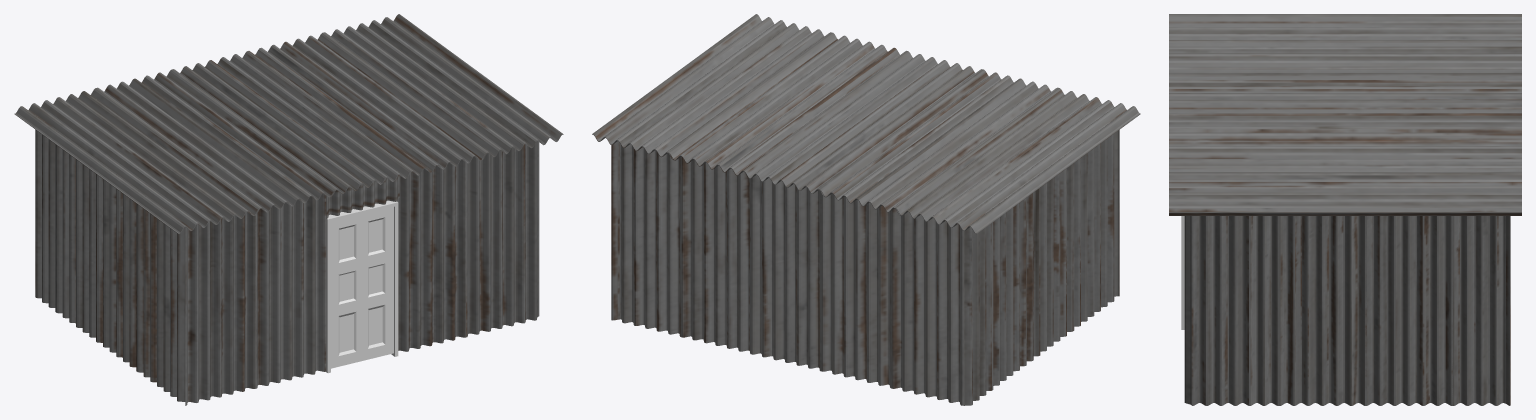
Rendered from Setlement Shack.fbx.
3 views of the same model, side by side, from view 1: azimuth 30°, elevation 25°; view 2: azimuth 150°, elevation 25°; view 3: azimuth 270°, elevation 25° (orthographic). The views are drawn at different scales.
Parts seen in each view (by area): view 1: Shack, Door, DoorFrame; view 2: Shack; view 3: Shack, DoorFrame.
Part boxes in pixels (x1,y1,x2,y2): Shack: (14, 14, 563, 405); Door: (331, 207, 393, 368); DoorFrame: (326, 200, 398, 373); Shack: (592, 14, 1140, 405); Shack: (1169, 14, 1521, 405); DoorFrame: (1181, 216, 1184, 329).
Size of the model in its own units: 664 by 309 by 490.
